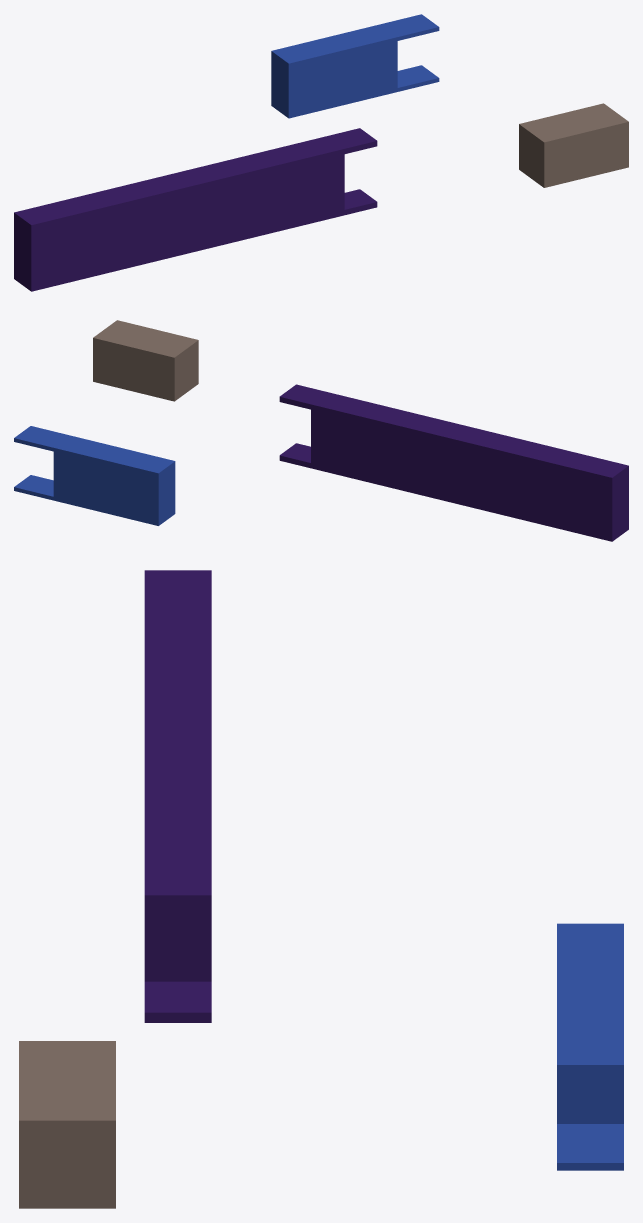
Rendered from Blocks.fbx.
3 renders of one model, top to bottom at view 1: azimuth 30°, elevation 25°; view 2: azimuth 150°, elevation 25°; view 3: azimuth 270°, elevation 25°, orthographic. The views are drawn at different scales.
Parts seen in each view (by area): view 1: Block1, Cubo 2, Content; view 2: Block1, Cubo 2, Content; view 3: Block1, Cubo 2, Content.
Part boxes in pixels (x1,y1,x2,y2): Block1: [14, 128, 377, 291]; Cubo 2: [271, 14, 439, 118]; Content: [519, 103, 628, 187]; Block1: [279, 384, 628, 541]; Cubo 2: [14, 426, 175, 525]; Content: [93, 320, 198, 401]; Block1: [144, 570, 211, 1022]; Cubo 2: [557, 923, 623, 1170]; Content: [19, 1041, 115, 1208].
Size of the model in its own units: 498 by 56.07 by 240.
